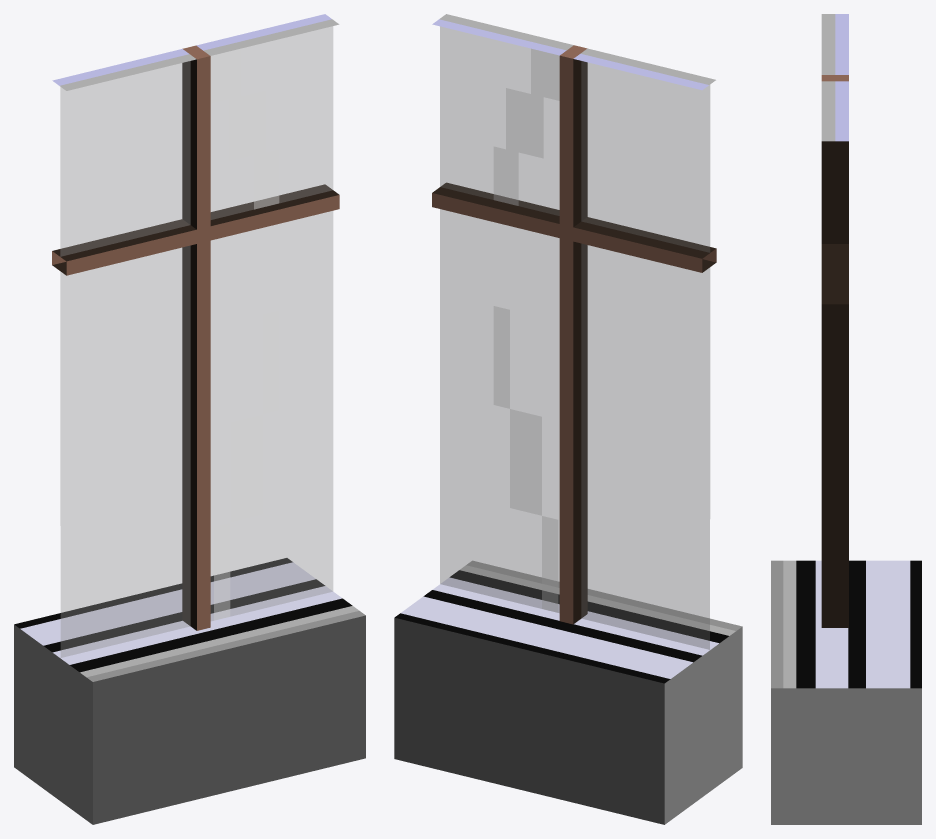
The model's file is glass_wall_1007.gltf.
The picture shows the model from 3 angles, left to right: view 1: azimuth 30°, elevation 25°; view 2: azimuth 150°, elevation 25°; view 3: azimuth 270°, elevation 25°; orthographic projection. The views are drawn at different scales.
Visible parts, largest first — view 1: glass_wall_1007; view 2: glass_wall_1007; view 3: glass_wall_1007.
Part boxes in pixels (x1=…): glass_wall_1007: x1=14, y1=14, x2=365, y2=824; glass_wall_1007: x1=394, y1=14, x2=742, y2=824; glass_wall_1007: x1=771, y1=14, x2=921, y2=824.
Size of the model in its own units: 2 by 5 by 1.
1 material, 1 textured.
